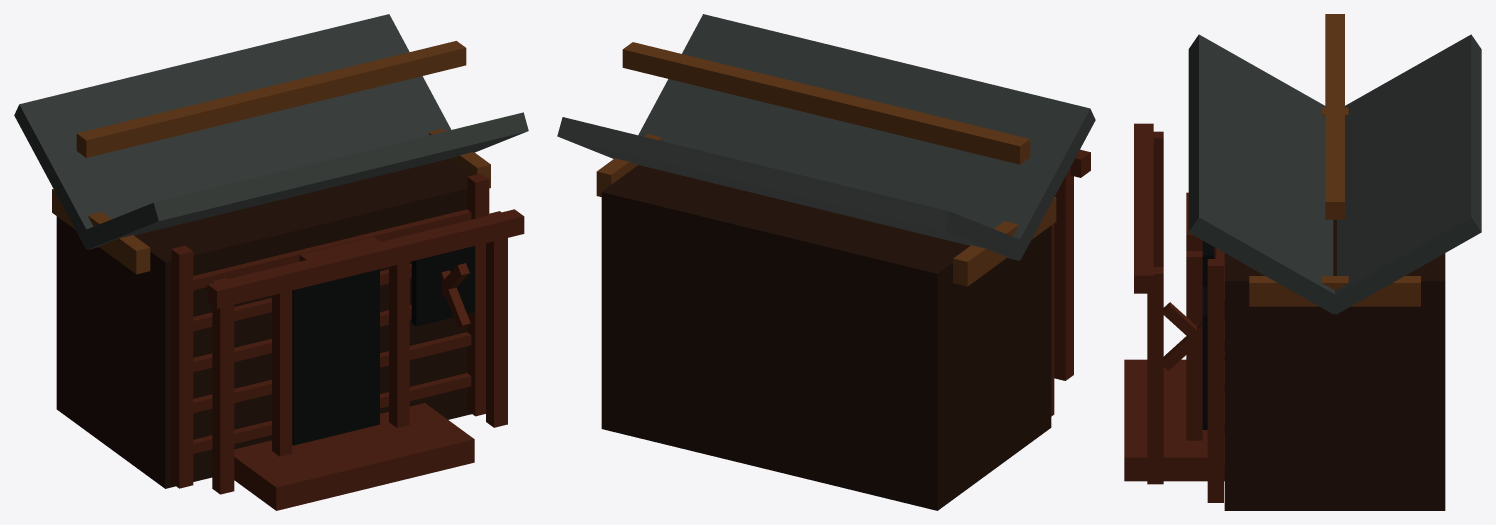
Rendered from cabana_munecas.obj.
The picture shows the model from 3 angles, left to right: view 1: azimuth 30°, elevation 25°; view 2: azimuth 150°, elevation 25°; view 3: azimuth 270°, elevation 25°; orthographic projection. The views are drawn at different scales.
Parts seen in each view (by area): view 1: cabana_munecas; view 2: cabana_munecas; view 3: cabana_munecas.
Boxes of the visible parts, x1,y1,x2,y2 form: cabana_munecas: [14, 14, 528, 510]; cabana_munecas: [557, 14, 1095, 510]; cabana_munecas: [1124, 14, 1481, 510].
Size of the model in its own units: 2.72 by 2.19 by 2.19.
